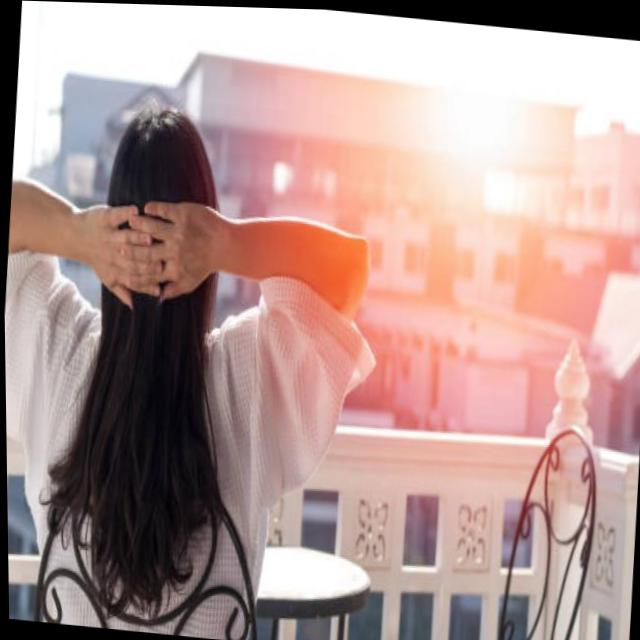no helmet: (84, 79, 232, 333)
